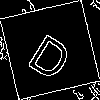D: (25, 25, 80, 83)
